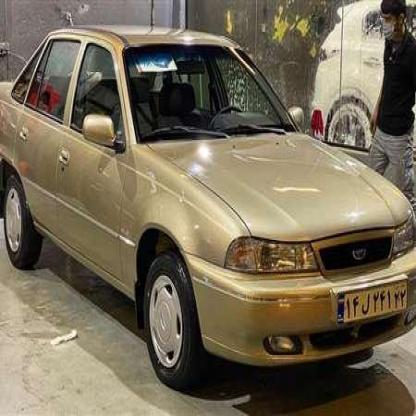Car: (0, 26, 416, 382), (306, 0, 416, 166)
